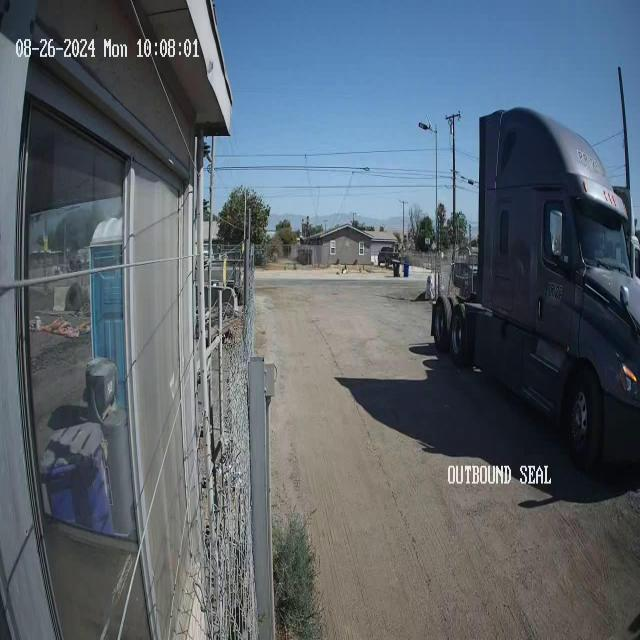BOBTAIL: (430, 104, 640, 463)
